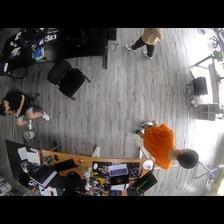normal: (133, 115, 200, 170), (125, 28, 165, 59)
